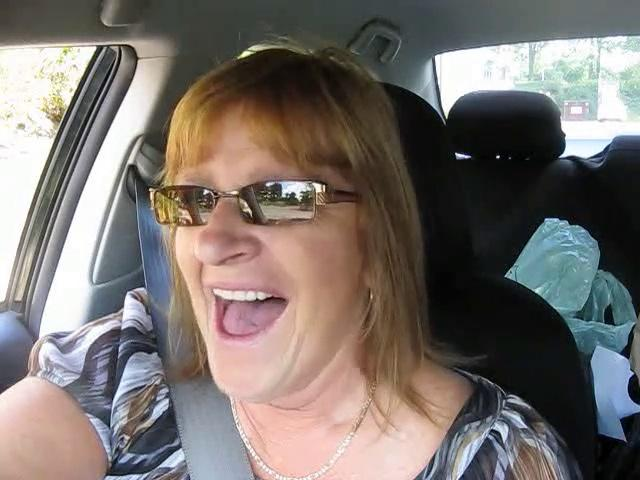yawn: (195, 272, 303, 349)
